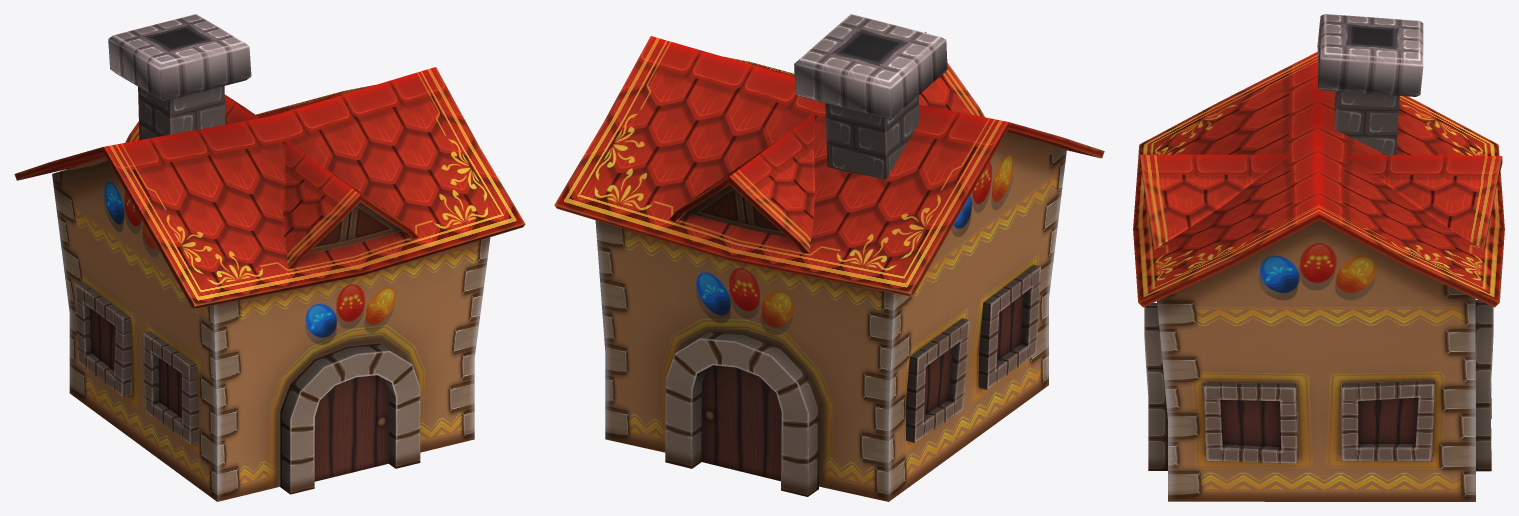
File: House_02.FBX
3 views of the same model, side by side, from view 1: azimuth 30°, elevation 25°; view 2: azimuth 150°, elevation 25°; view 3: azimuth 270°, elevation 25° (orthographic). The views are drawn at different scales.
Parts seen in each view (by area): view 1: House_02; view 2: House_02; view 3: House_02.
Part boxes in pixels (x1,y1,x2,y2): House_02: [14, 14, 525, 501]; House_02: [554, 14, 1104, 501]; House_02: [1133, 14, 1504, 501].
Size of the model in its own units: 173 by 188 by 169.
